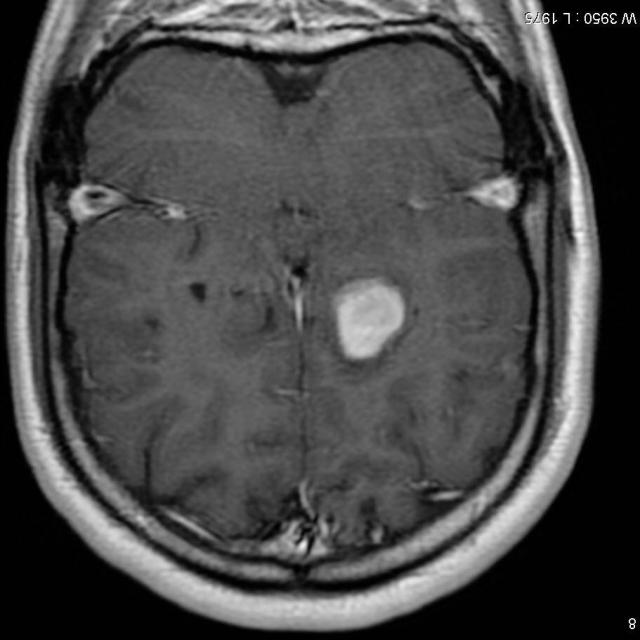Tumor-Cell: (329, 268, 421, 382)
